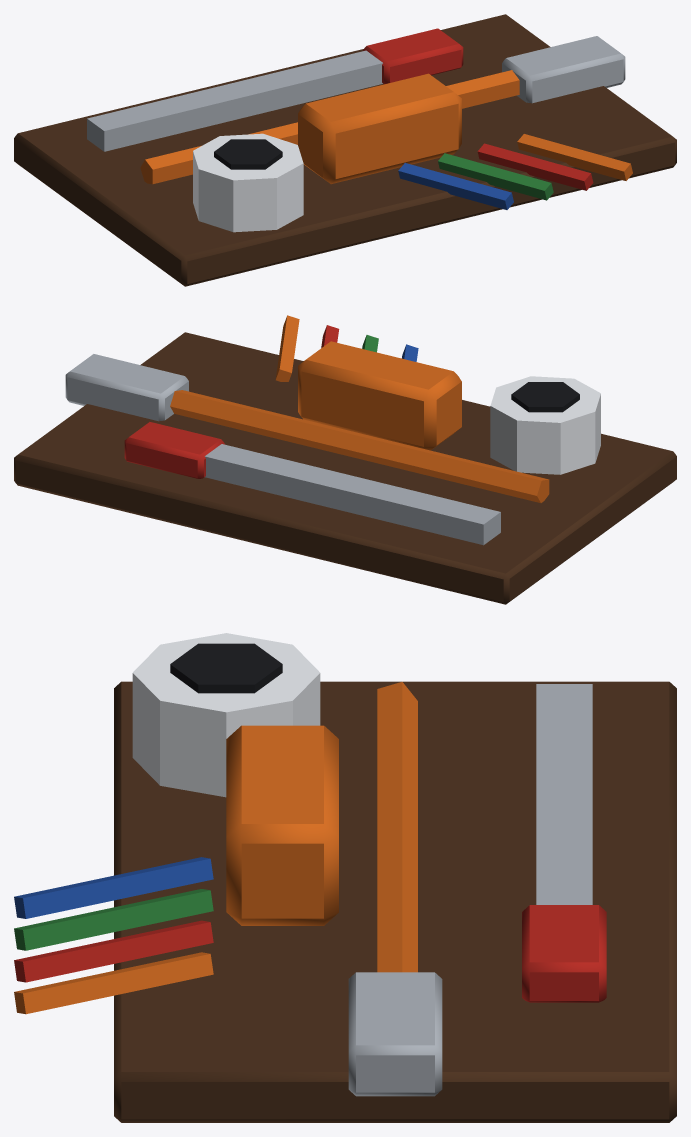
Rendered from engtool_hand_tool_set.glb.
3 views of the same model, one above another, from view 1: azimuth 30°, elevation 25°; view 2: azimuth 150°, elevation 25°; view 3: azimuth 270°, elevation 25° (orthographic). The views are drawn at different scales.
Parts seen in each view (by area): view 1: engtool_hand_tool_set; view 2: engtool_hand_tool_set; view 3: engtool_hand_tool_set.
Part boxes in pixels (x1,y1,x2,y2): engtool_hand_tool_set: [14, 14, 676, 286]; engtool_hand_tool_set: [14, 315, 676, 604]; engtool_hand_tool_set: [14, 633, 676, 1122].
Size of the model in its own units: 0.52 by 0.09 by 0.3532.
